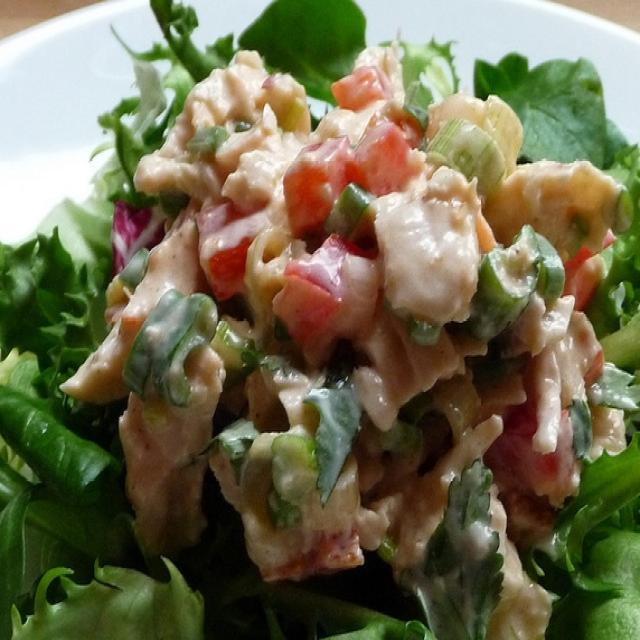鸡肉料理 含炸鸡: (29, 11, 610, 626)
